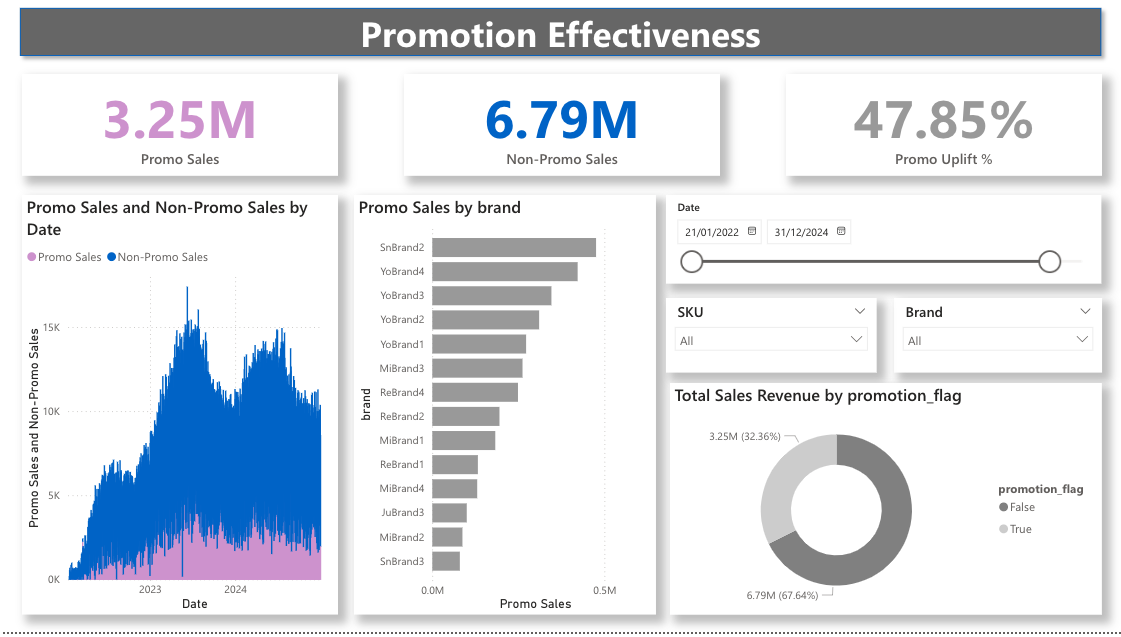

The page's visual inventory and layout, read from the dashboard file:
{"tool":"powerbi","page":{"name":"Promotions Performance","canvas":[1280,720],"ordinal":3},"visuals":[{"type":"shape","title":"Executive Sales & Inventory Overview","box":[14.2,0,1249.9,72.8],"z":0},{"type":"card","fields":{"Values":["Measure Table.Promo Sales"]},"box":[24.5,84.5,359.9,115.9],"z":1},{"type":"card","fields":{"Values":["Measure Table.Non-Promo Sales"]},"box":[460.7,84.5,359.9,115.9],"z":2},{"type":"card","fields":{"Values":["Measure Table.Promo Uplift %"]},"box":[895.6,84.5,359.9,115.9],"z":3},{"type":"columnChart","fields":{"Category":["gold_sales_gold_for_bi.date"],"Y":["Measure Table.Promo Sales","Measure Table.Non-Promo Sales"]},"box":[24.5,222.2,359.9,478.5],"z":4},{"type":"barChart","fields":{"Category":["gold_sales_gold_for_bi.brand"],"Y":["Measure Table.Promo Sales"]},"box":[403.5,222.2,343.5,478.5],"z":5},{"type":"slicer","fields":{"Values":["gold_sales_gold_for_bi.date"]},"box":[759.3,222.2,496.2,100.9],"z":6},{"type":"slicer","fields":{"Values":["gold_sales_gold_for_bi.brand"]},"box":[1018.3,339.4,237.2,84.5],"z":7},{"type":"slicer","fields":{"Values":["gold_sales_gold_for_bi.sku"]},"box":[759.3,339.4,239.9,84.5],"z":8},{"type":"donutChart","fields":{"Category":["gold_sales_gold_for_bi.promotion_flag"],"Y":["Measure Table.Total Sales Revenue"]},"box":[763.4,436.2,492.1,264.5],"z":9}]}

Visuals, with their boxes in screenshot pixels (x1, y1, x2, y2), scaled from the page's 1280x720 canvas onto the 1121x637 screenshot:
"Executive Sales & Inventory Overview" shape: 12/0/1107/64
card - Measure Table.Promo Sales: 21/75/337/177
card - Measure Table.Non-Promo Sales: 403/75/719/177
card - Measure Table.Promo Uplift %: 784/75/1100/177
columnChart - gold_sales_gold_for_bi.date x Measure Table.Promo Sales: 21/197/337/620
barChart - gold_sales_gold_for_bi.brand x Measure Table.Promo Sales: 353/197/654/620
slicer - gold_sales_gold_for_bi.date: 665/197/1100/286
slicer - gold_sales_gold_for_bi.brand: 892/300/1100/375
slicer - gold_sales_gold_for_bi.sku: 665/300/875/375
donutChart - gold_sales_gold_for_bi.promotion_flag x Measure Table.Total Sales Revenue: 669/386/1100/620
